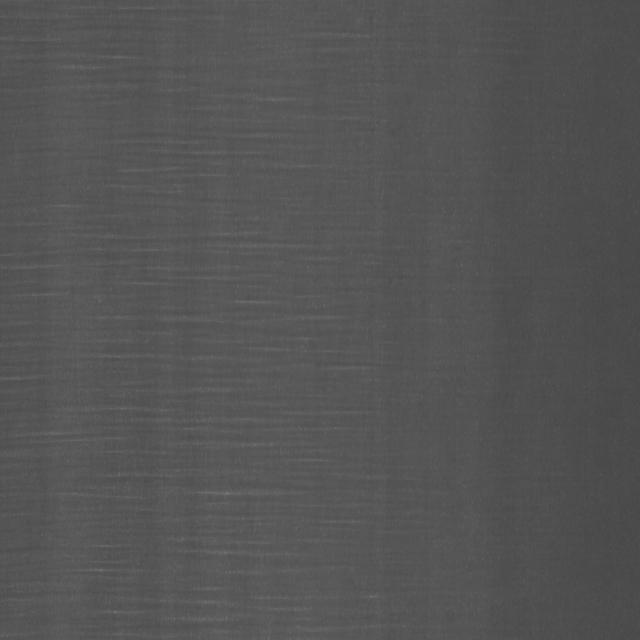punching_hole: (23, 58, 445, 592)
